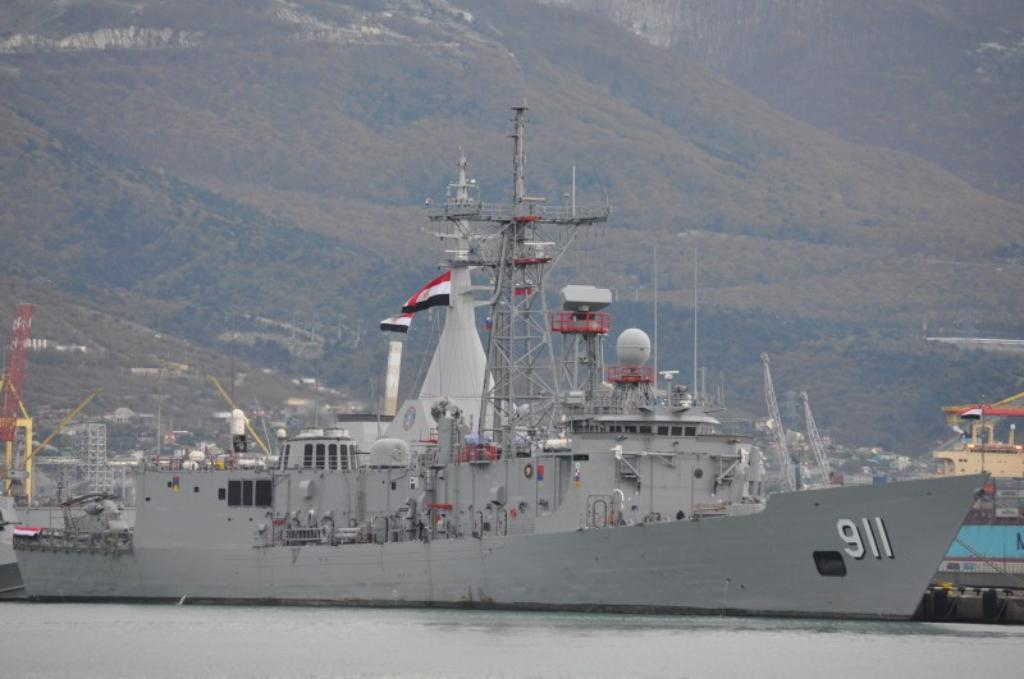Warship: (8, 94, 992, 622)
